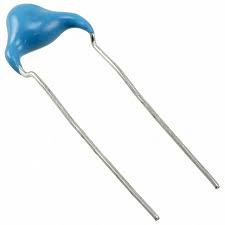ceramic capacitor: (1, 1, 130, 94)
